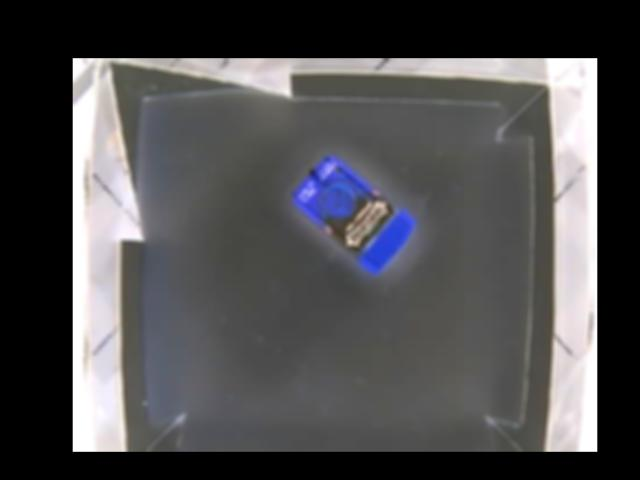Bottle: (289, 152, 414, 274)
